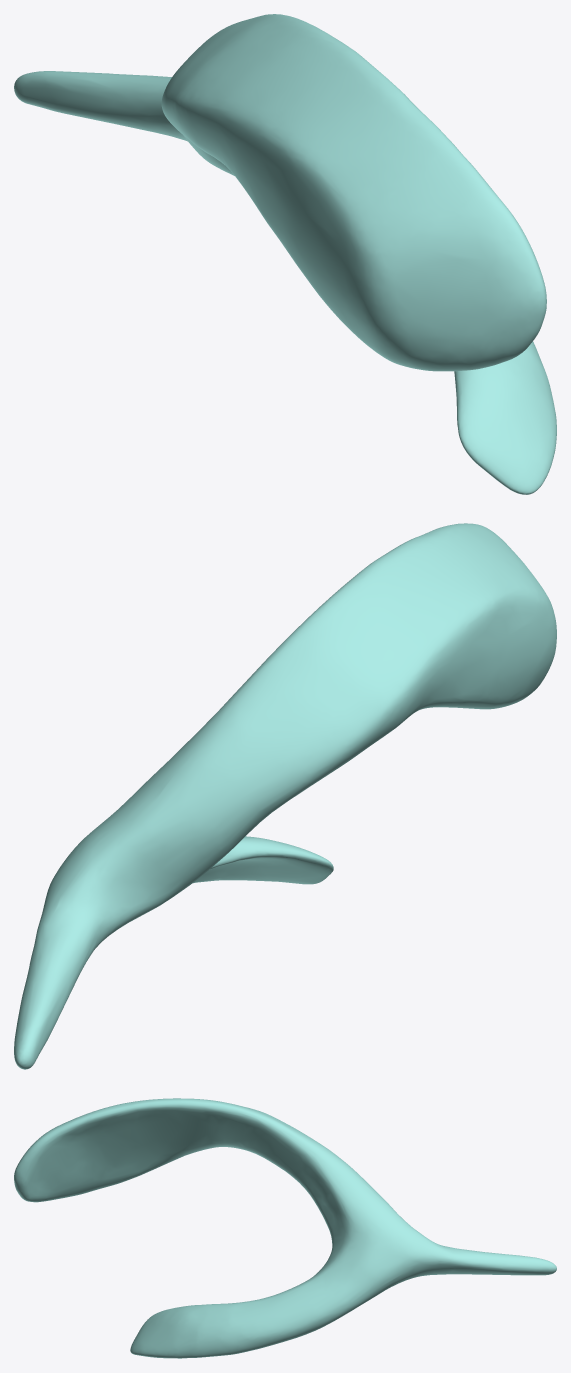
File: Lateral_ventricle_left.glb
The picture shows the model from 3 angles, top to bottom: view 1: azimuth 30°, elevation 25°; view 2: azimuth 150°, elevation 25°; view 3: azimuth 270°, elevation 25°; orthographic projection. The views are drawn at different scales.
Visible parts, largest first — view 1: Lateral_ventricle.l_grp1.072; view 2: Lateral_ventricle.l_grp1.072; view 3: Lateral_ventricle.l_grp1.072.
Part boxes in pixels (x1,y1,x2,y2): Lateral_ventricle.l_grp1.072: (14, 14, 556, 494); Lateral_ventricle.l_grp1.072: (14, 523, 556, 1069); Lateral_ventricle.l_grp1.072: (14, 1098, 556, 1358).
Size of the model in its own units: 0.0374 by 0.0476 by 0.1061.
